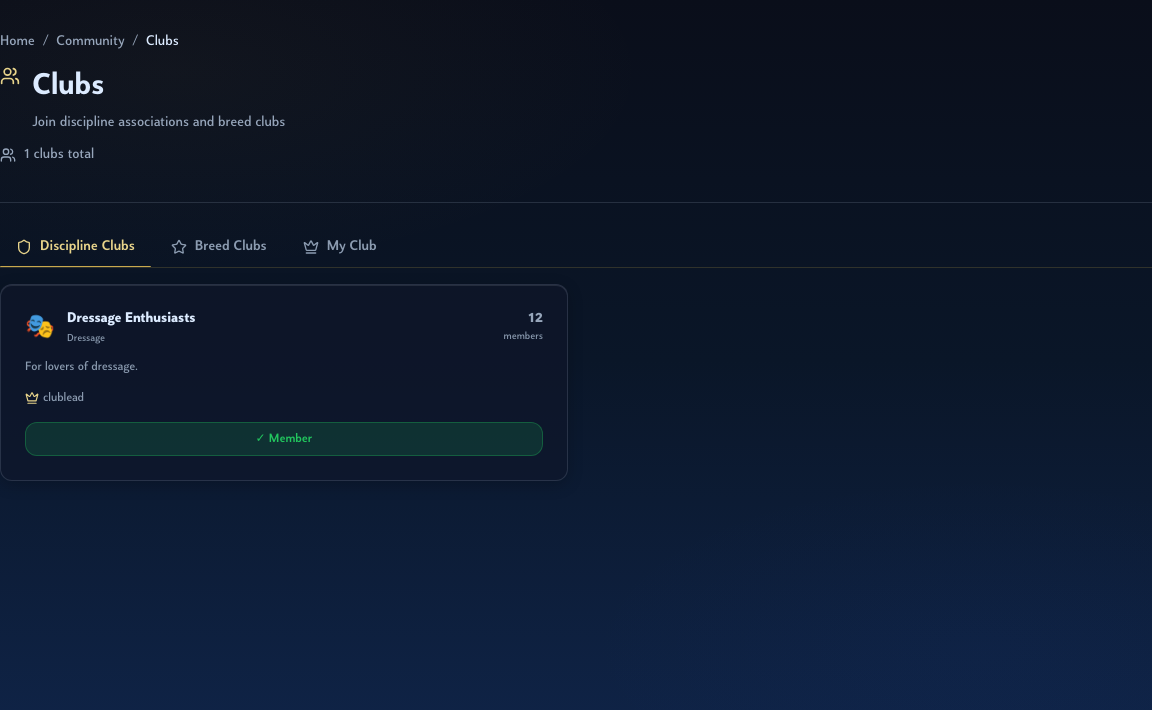
Test: ClubElectionsSection fetch states (Equoria-1rsb7) › a failed elections fetch shows an error with retry, not "No active elections"
Click the tab with test id "tab-my-club".
click(340, 247)  # box [287, 227, 393, 267]
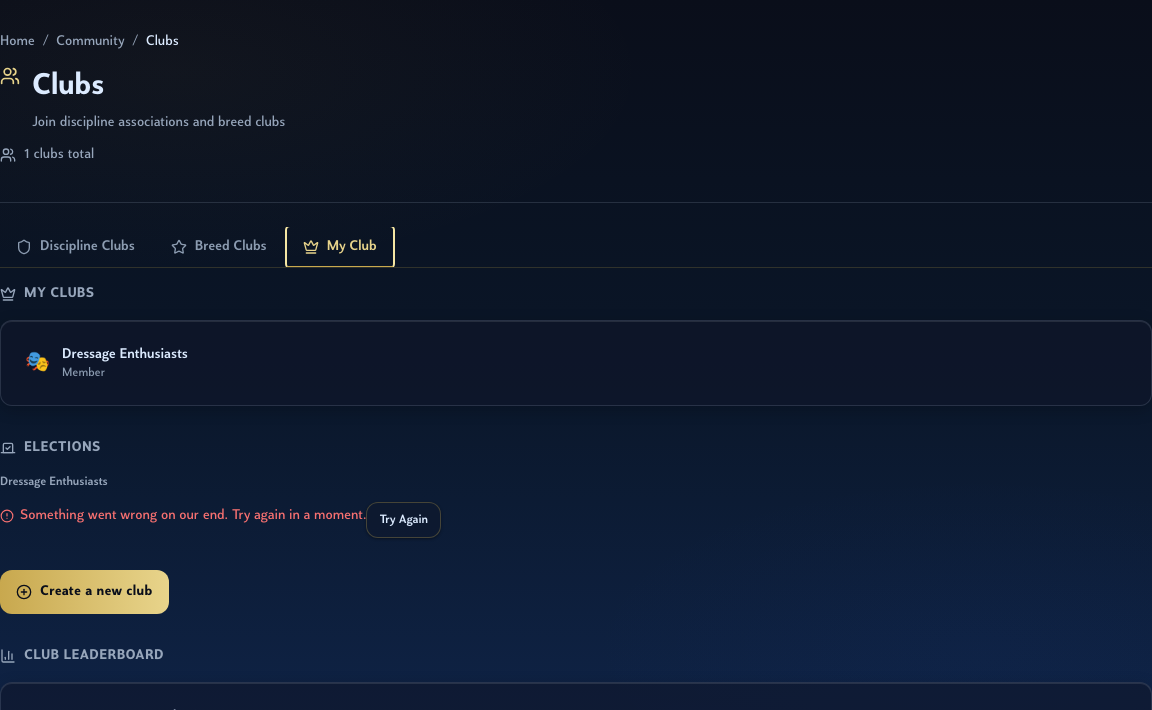
Result: the message shows "Something went wrong" at [20, 508, 366, 523]
Result: the button "Try Again" is shown at [366, 502, 441, 538]
